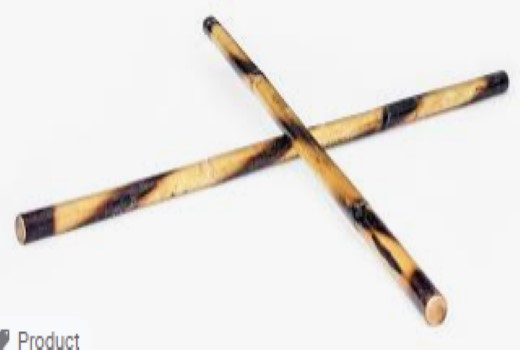baston_e: (30, 73, 494, 243), (203, 30, 438, 290)
baston_v: (421, 290, 453, 331), (8, 207, 37, 247), (490, 65, 515, 97), (197, 8, 222, 38)
